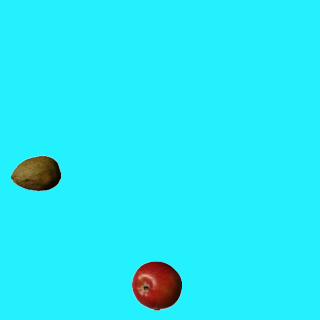Apple Braeburn: (131, 260, 181, 310)
Papaya: (10, 148, 60, 198)
